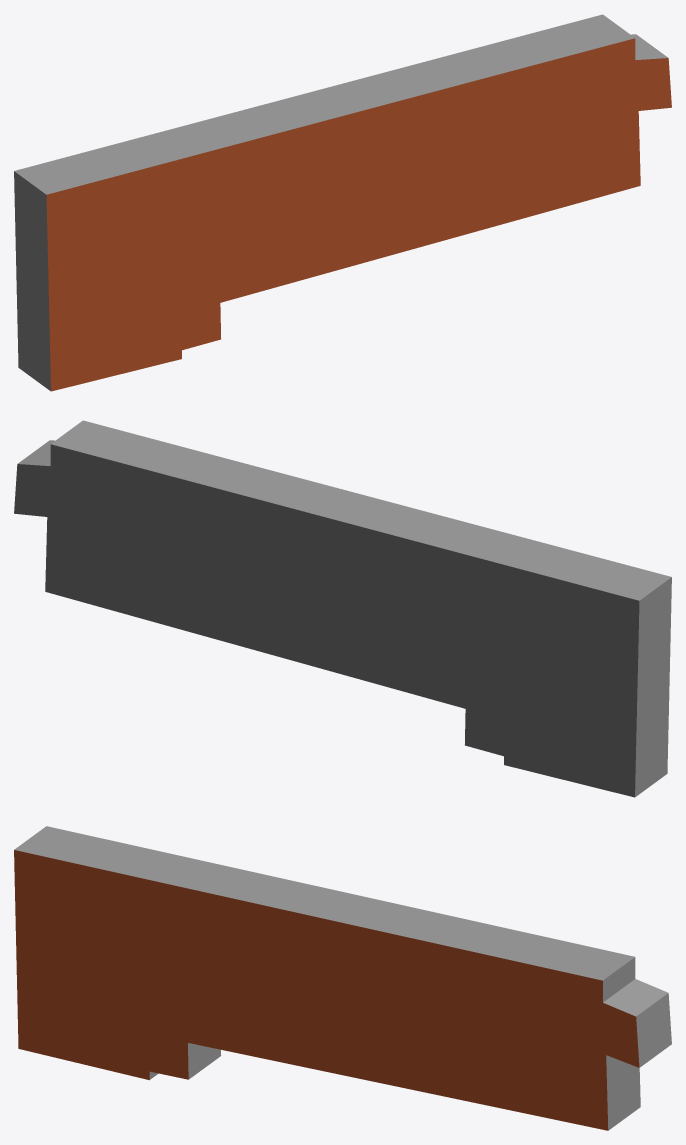
Rendered from construction_2067_assumed_A_Casa_h6m.obj.
3 views of the same model, one above another, from view 1: azimuth 30°, elevation 25°; view 2: azimuth 150°, elevation 25°; view 3: azimuth 330°, elevation 25° (orthographic).
Visible parts, largest first — view 1: construction_2067_assumed_A_Casa; view 2: construction_2067_assumed_A_Casa; view 3: construction_2067_assumed_A_Casa.
Part boxes in pixels (x1,y1,x2,y2): construction_2067_assumed_A_Casa: (14, 14, 671, 391); construction_2067_assumed_A_Casa: (14, 420, 671, 797); construction_2067_assumed_A_Casa: (14, 826, 671, 1130).
Size of the model in its own units: 66.65 by 21.46 by 6.
